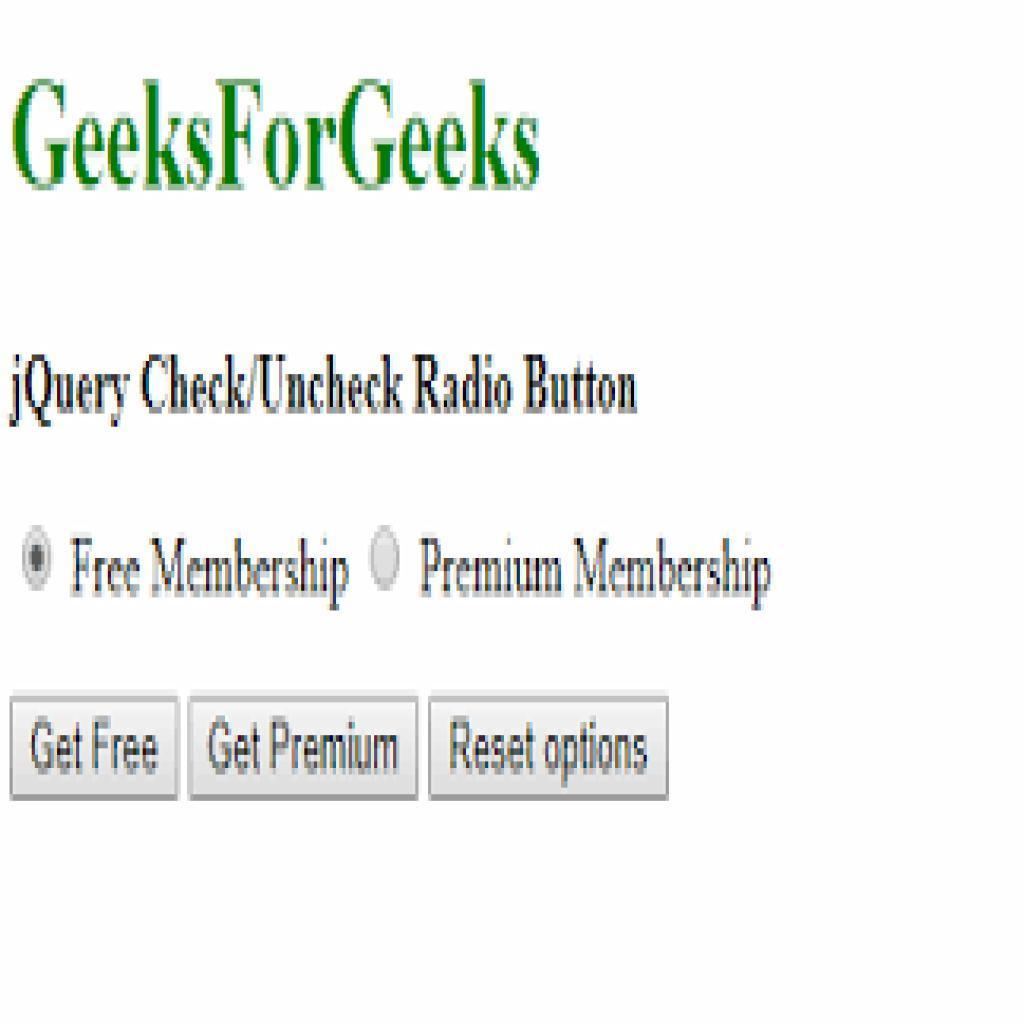button: (187, 696, 420, 796), (424, 701, 669, 792), (10, 701, 181, 804)
radio: (19, 514, 54, 603), (371, 520, 406, 600)
